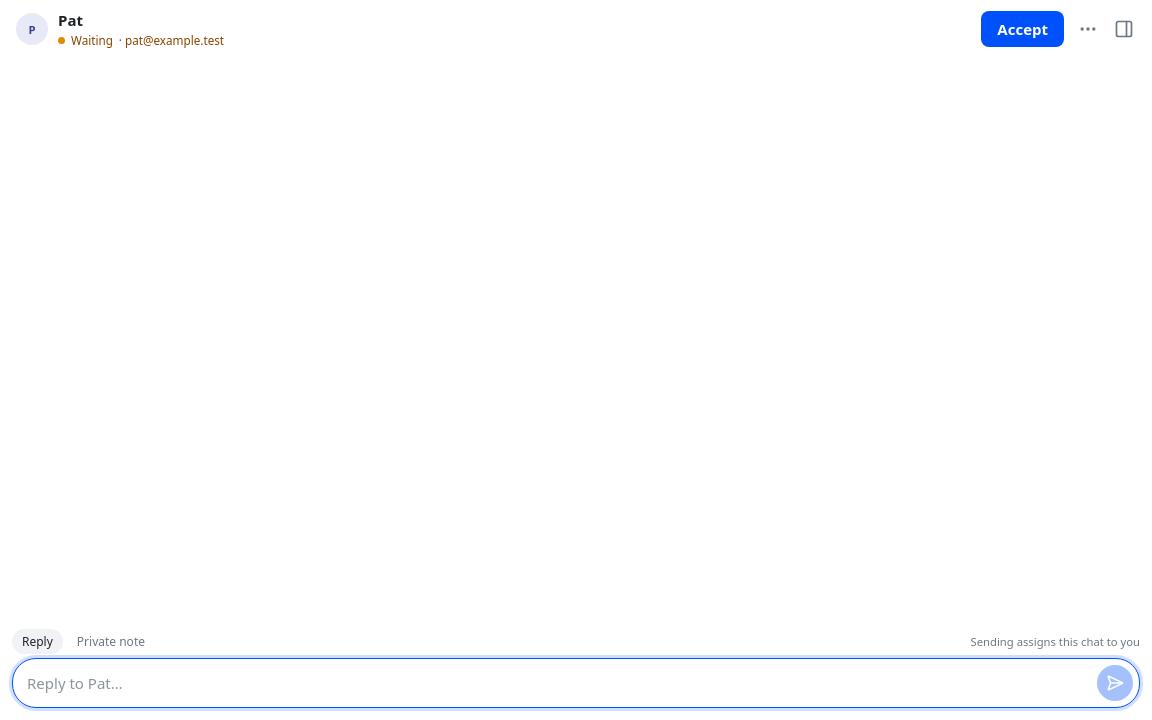
Test: ConversationView › accepts and replies in one go
The image size is (1152, 720).
Expected: the button "Accept" is shown, 981,11 -> 1064,47
In the text box named "Message": [558, 684] box 27,666 -> 1089,701, type "Hi Pat"
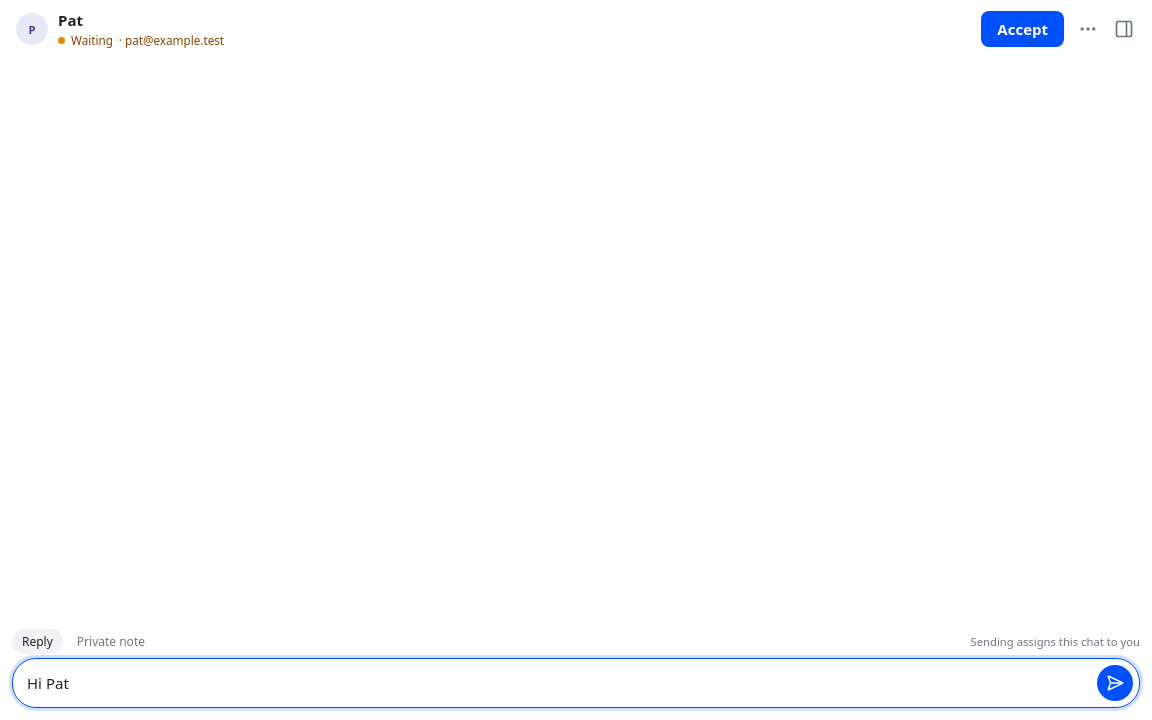
Press Enter in the text box named "Message", box 27,666 -> 1089,701
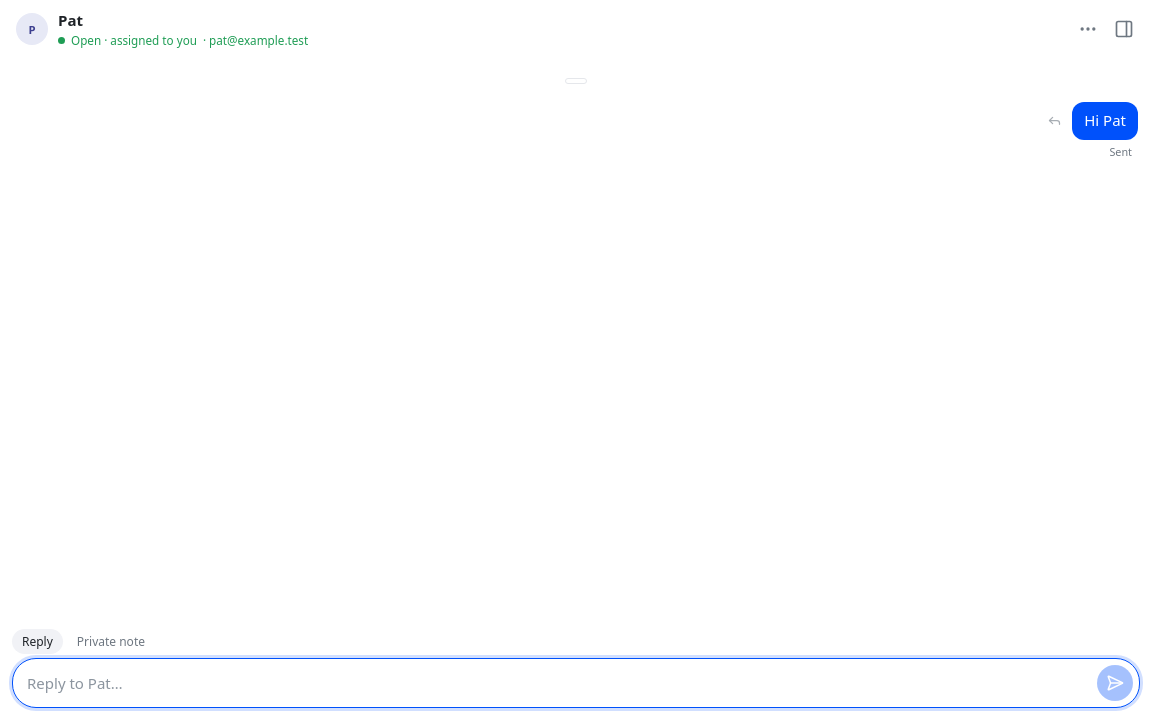
Expected: the text "Hi Pat" is shown, 1084,110 -> 1126,132
